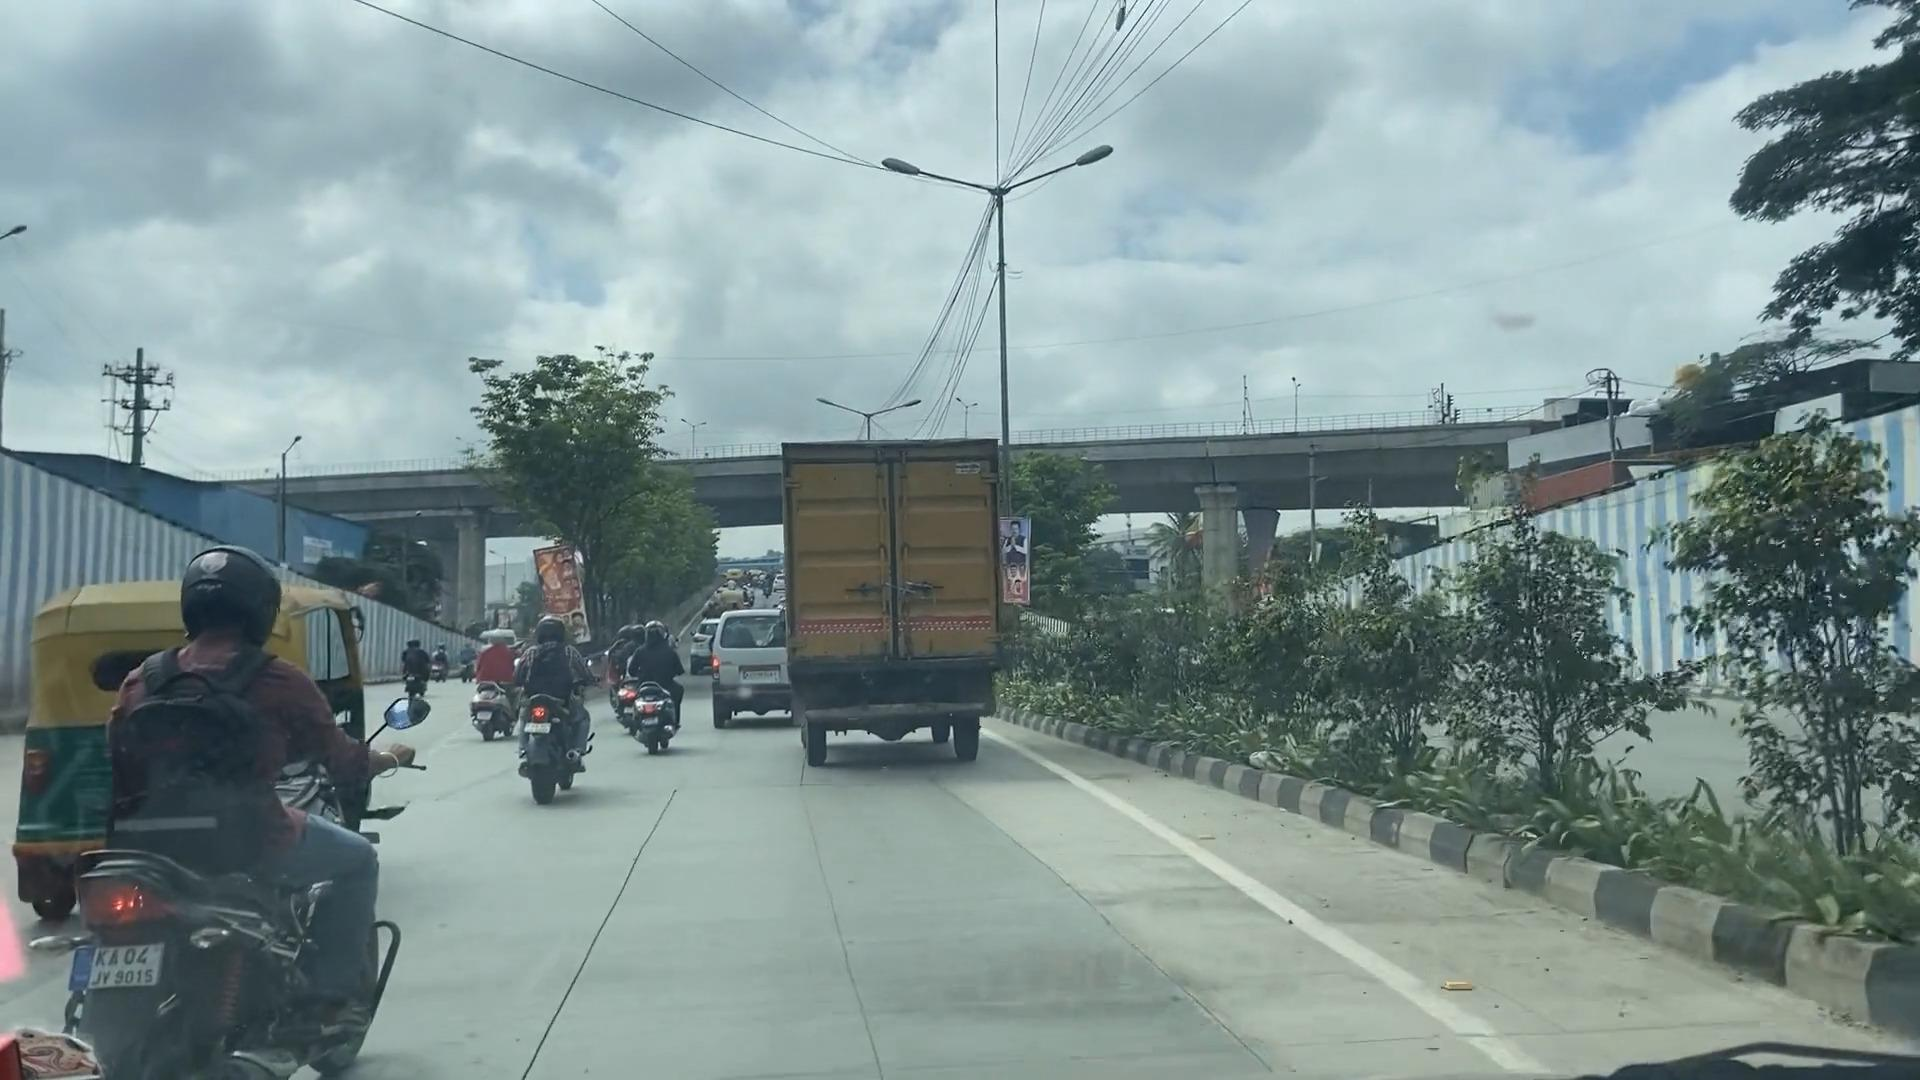HMV: (783, 450, 1006, 749)
LMV: (83, 556, 385, 1080), (506, 630, 607, 790), (630, 611, 694, 761)
